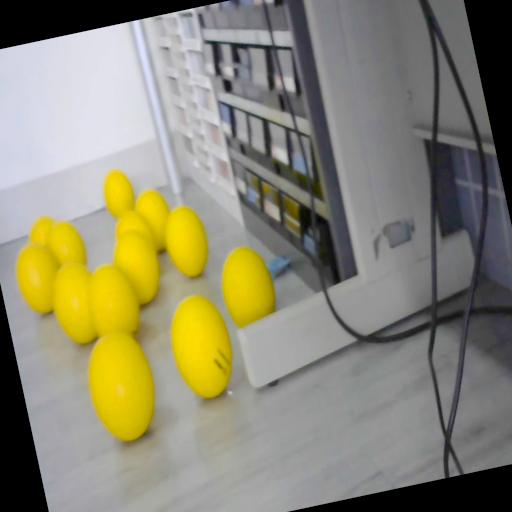FUEL: (76, 322, 164, 444), (160, 286, 240, 402), (212, 239, 280, 328), (43, 256, 106, 348), (158, 200, 212, 281), (108, 205, 156, 258), (98, 166, 138, 220), (26, 214, 60, 250)
